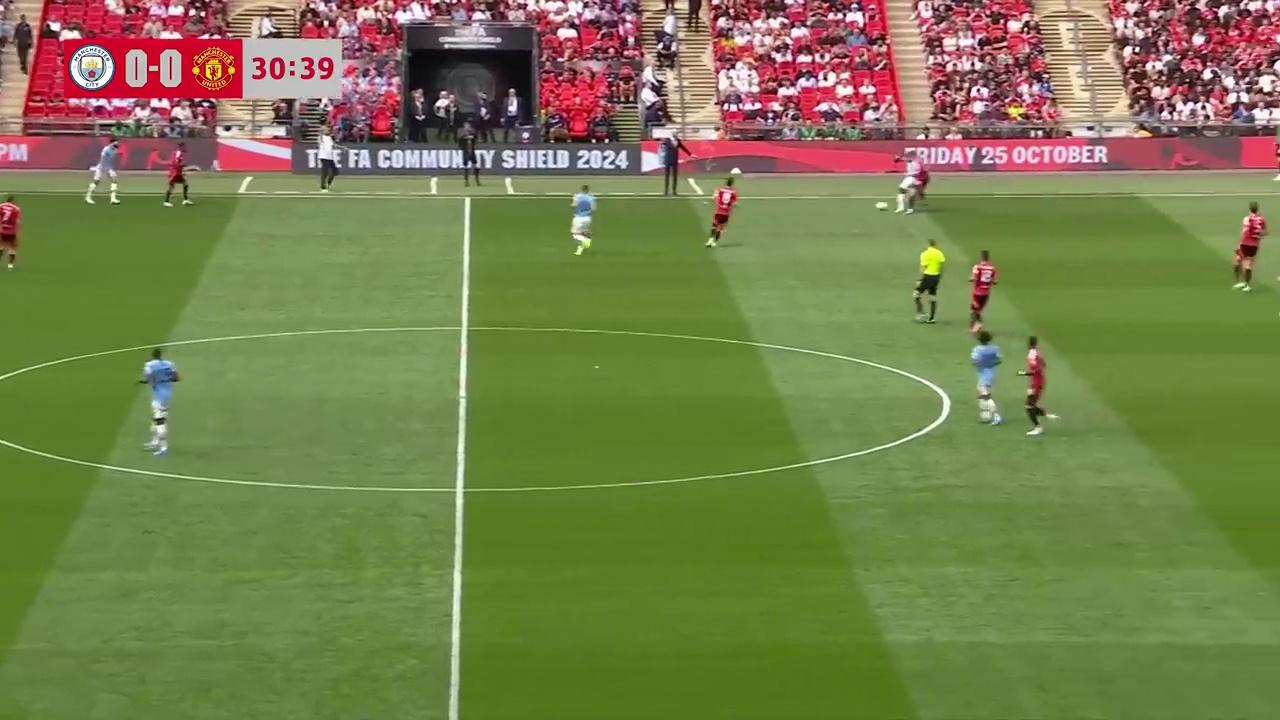ball: (873, 197, 889, 211)
player: (136, 346, 182, 456), (1017, 336, 1056, 435), (1231, 202, 1269, 291), (969, 330, 1004, 426), (968, 249, 997, 334), (85, 140, 120, 205), (706, 178, 738, 248), (569, 184, 596, 255), (163, 146, 193, 207), (891, 166, 924, 214), (0, 195, 21, 270), (902, 160, 930, 213)
referee: (912, 238, 945, 322)
